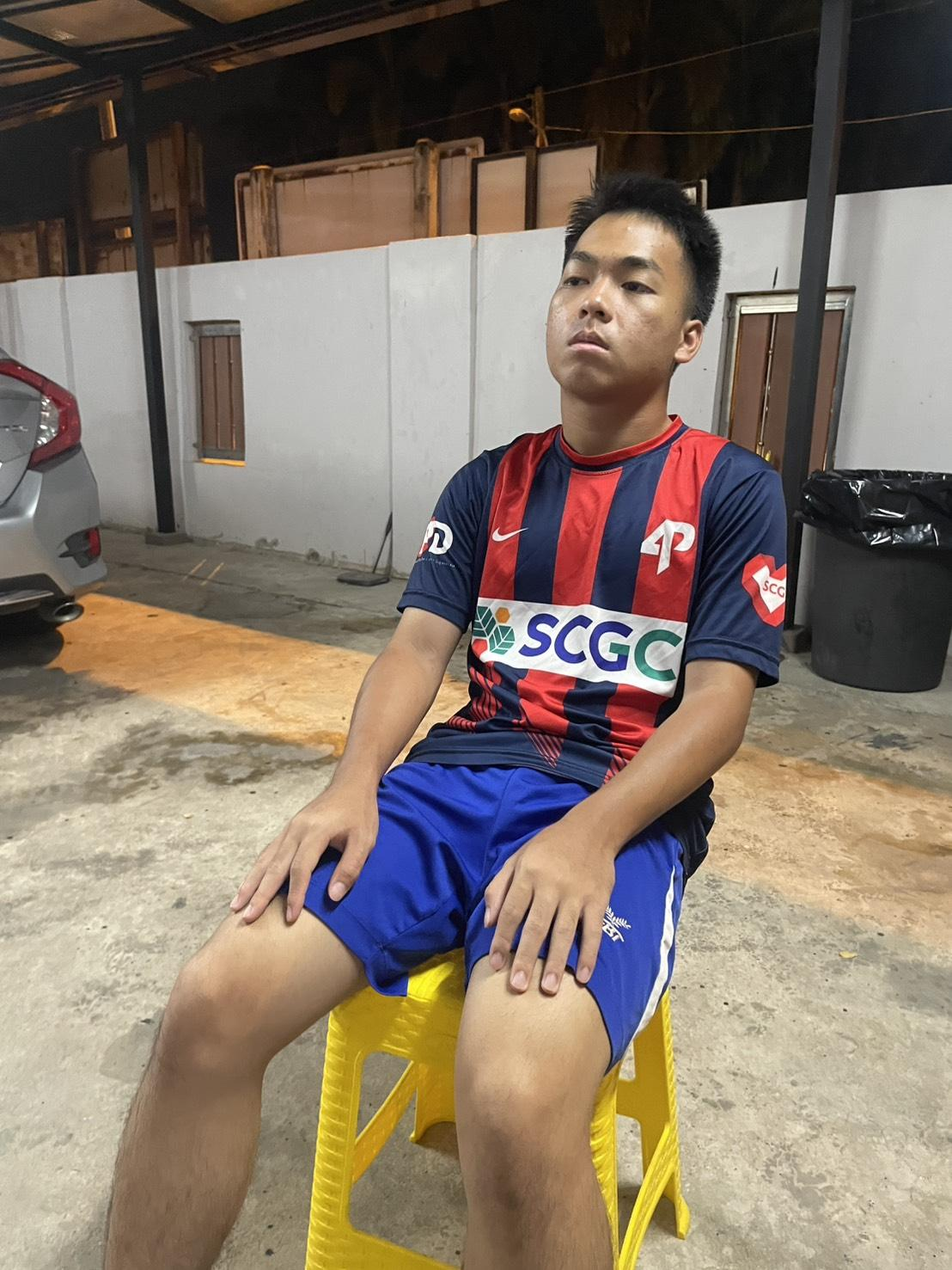BadPosture: (232, 171, 786, 1070)
